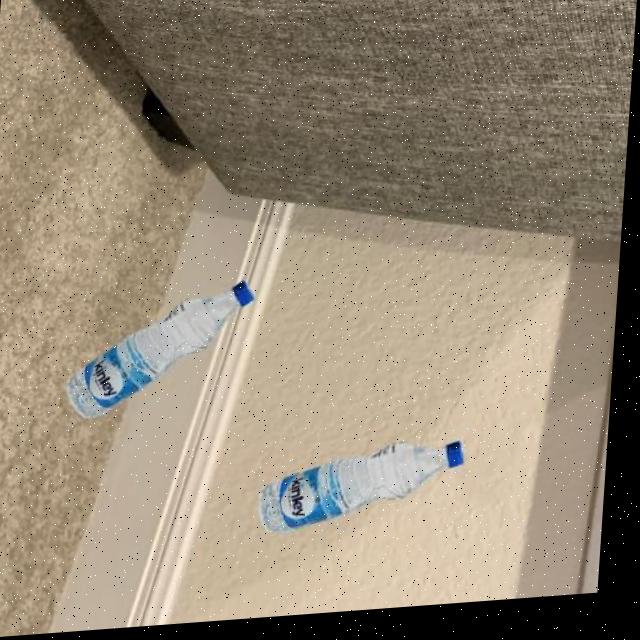bottle: (69, 283, 261, 424), (263, 442, 474, 540)
